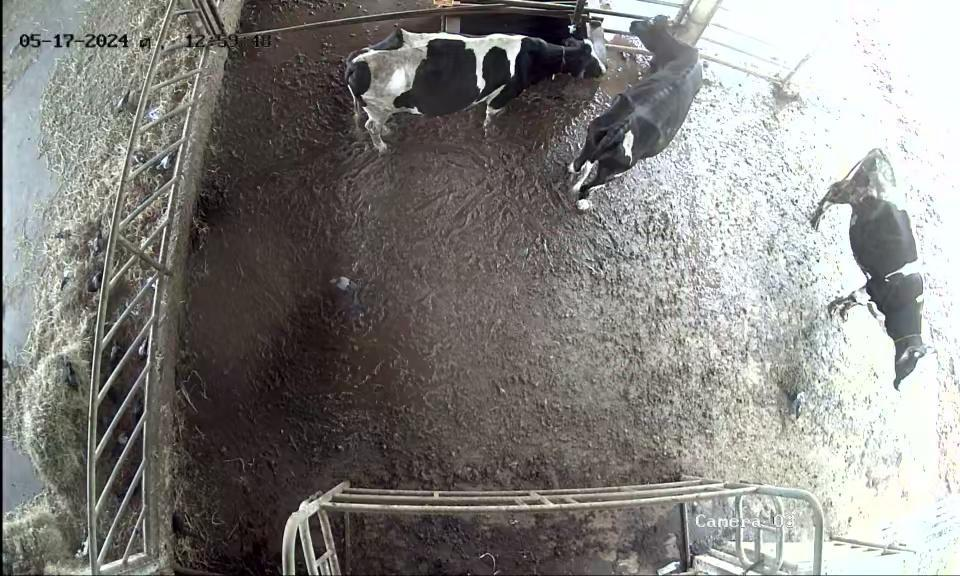stand: (338, 16, 603, 173), (804, 128, 937, 403), (564, 10, 705, 216)
